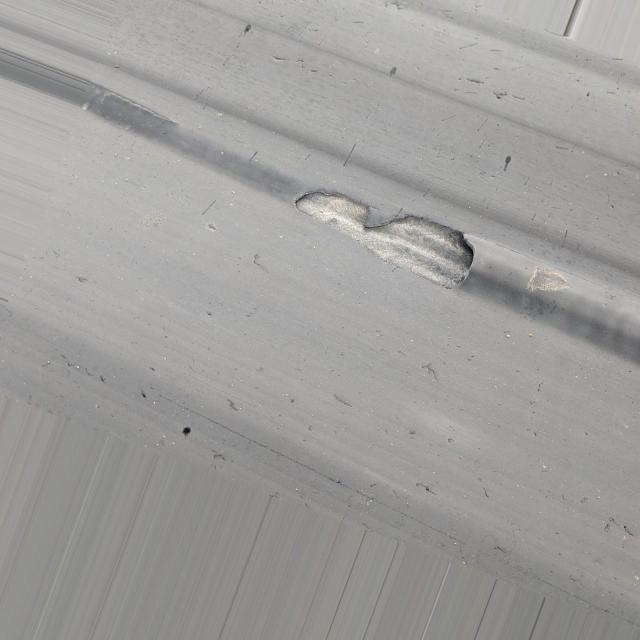Tear: (288, 156, 478, 305)
impact damage: (110, 77, 640, 375)
